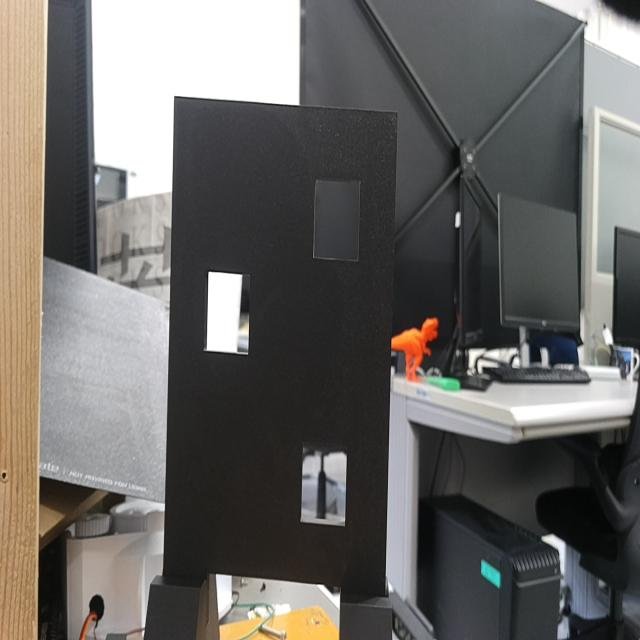Obstacle: (315, 179, 361, 262), (206, 272, 252, 353), (300, 451, 348, 526)
Wall: (163, 96, 397, 588)
